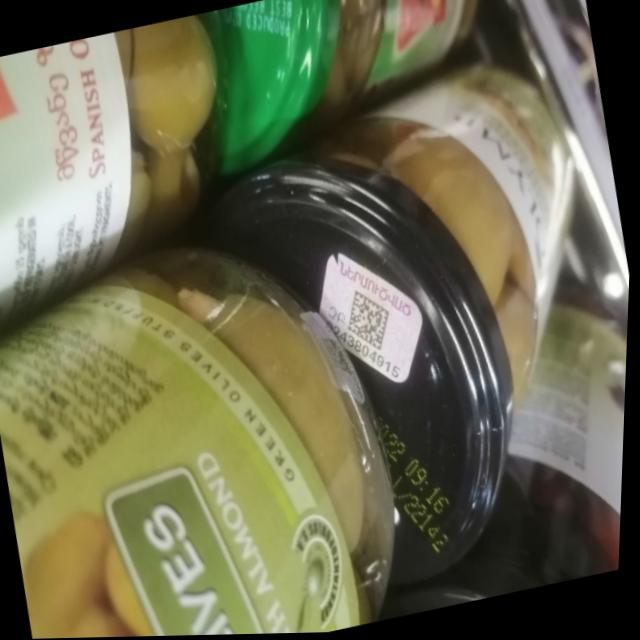datamatrix: (342, 284, 402, 360)
